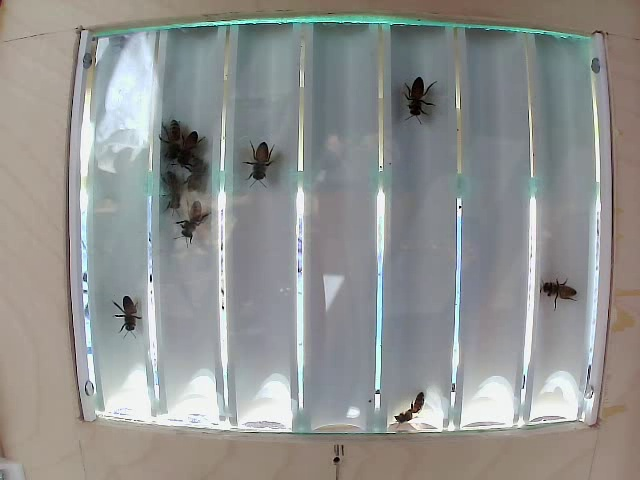bee: (241, 130, 286, 179), (397, 74, 437, 113), (181, 199, 217, 240), (541, 272, 578, 307), (159, 154, 182, 203), (114, 300, 145, 336), (180, 161, 214, 193), (393, 395, 429, 421), (178, 132, 201, 163), (161, 119, 181, 149)
